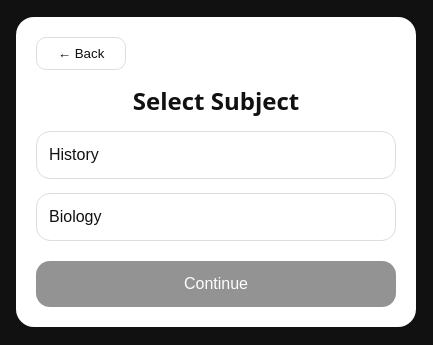
Test: SubjectSelection › enables Continue after selecting a subject
Click the button "Biology" at (75, 216), box [36,193,396,241]
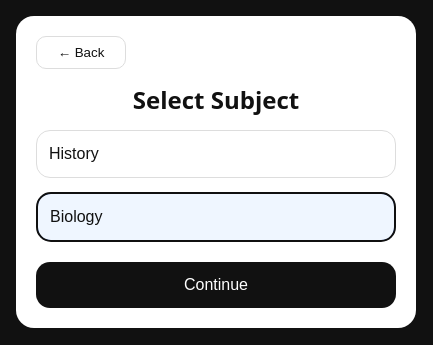
expect the button "Continue" is enabled: met, box [36,262,396,308]
